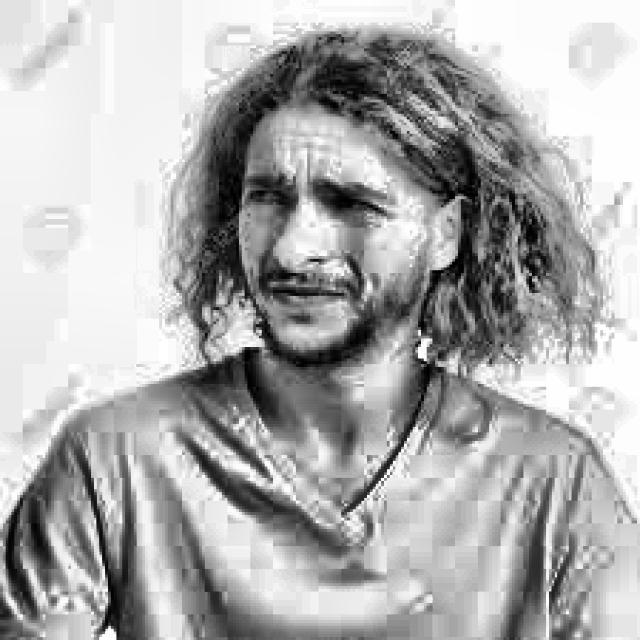disgust: (162, 22, 512, 390)
